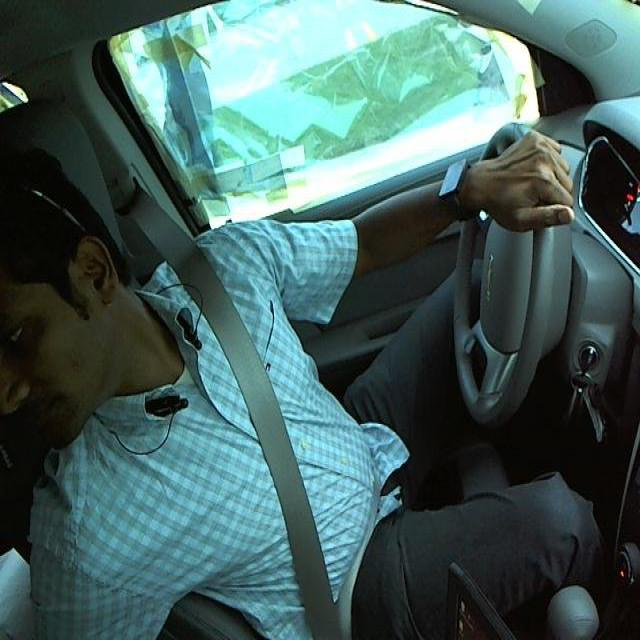seatbelt: (157, 261, 353, 636)
